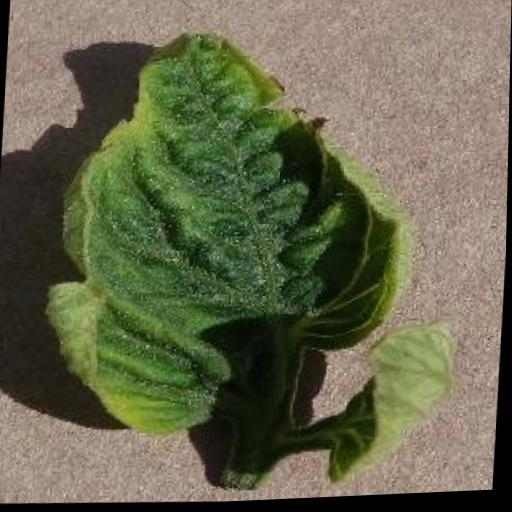Yellow Leaf Curl Virus: (41, 20, 420, 451)
